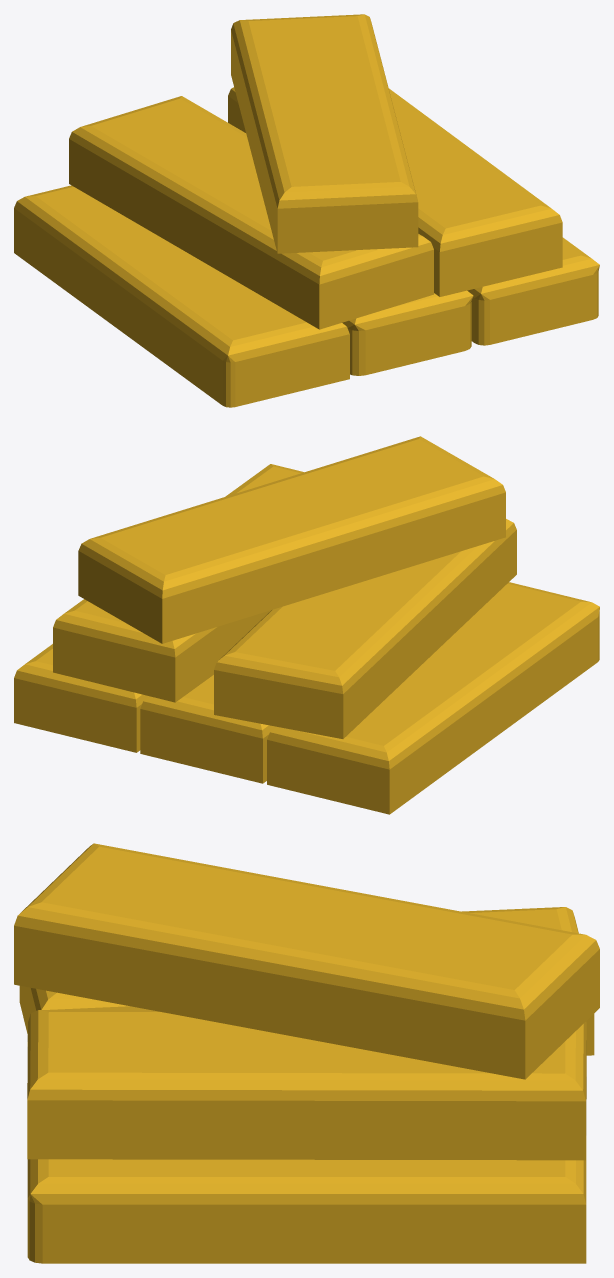
The model's file is Gold Bars-transformed.glb.
3 views of the same model, one above another, from view 1: azimuth 30°, elevation 25°; view 2: azimuth 150°, elevation 25°; view 3: azimuth 270°, elevation 25° (orthographic). The views are drawn at different scales.
Parts seen in each view (by area): view 1: Cube; view 2: Cube; view 3: Cube.
Part boxes in pixels (x1,y1,x2,y2): Cube: (14,14,599,407); Cube: (14,436,599,814); Cube: (14,843,599,1263).
Size of the model in its own units: 6.54 by 2.99 by 6.75.
